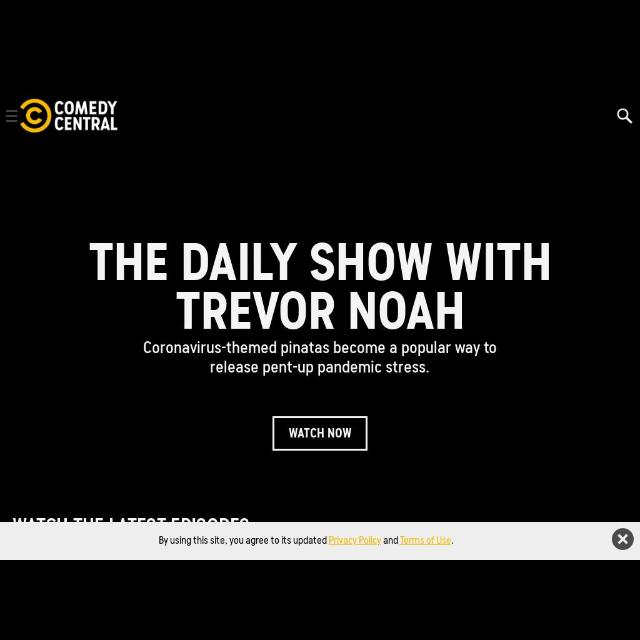backgroundimage: (3, 82, 639, 520)
button: (612, 526, 636, 550)
icon: (612, 106, 634, 124), (4, 105, 20, 124)
iframe: (1, 524, 639, 558)
image: (18, 92, 122, 136)
text: (80, 239, 556, 329), (139, 339, 505, 376), (158, 531, 456, 549)
textbutton: (270, 415, 372, 453)
